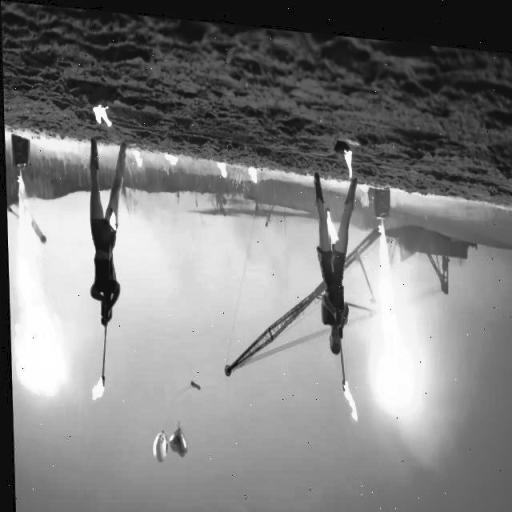balloon: (148, 426, 166, 457), (167, 423, 184, 454)
